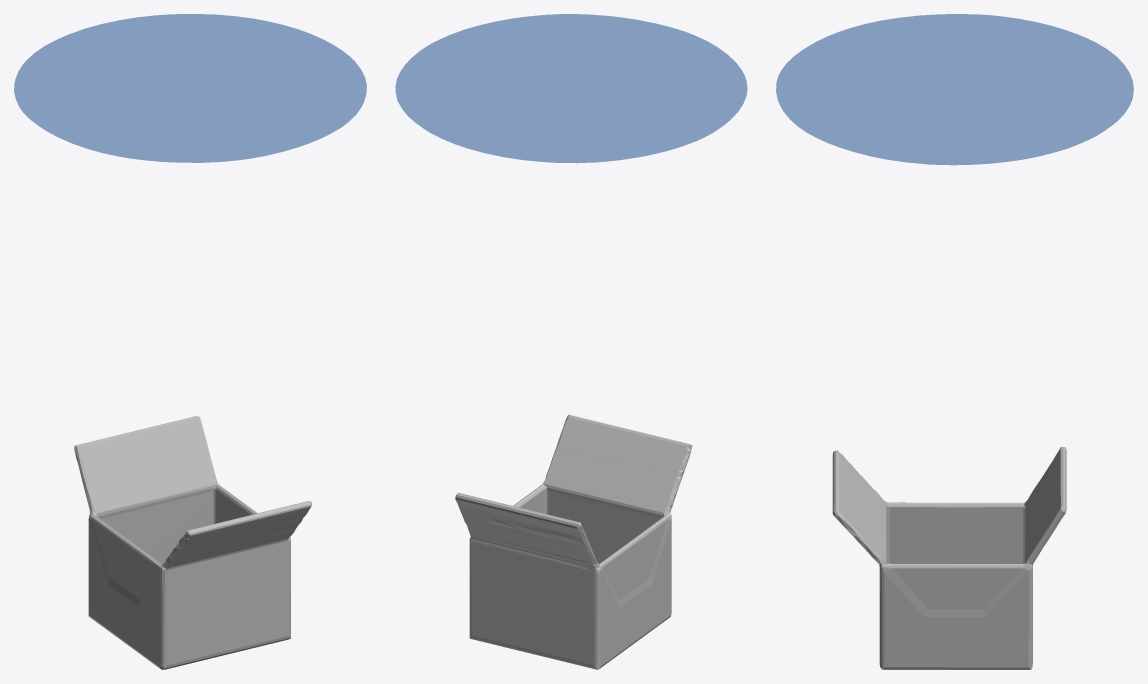
The model's file is init.glb.
The picture shows the model from 3 angles, left to right: view 1: azimuth 30°, elevation 25°; view 2: azimuth 150°, elevation 25°; view 3: azimuth 270°, elevation 25°; orthographic projection.
Visible parts, largest first — view 1: world, object.obj; view 2: world, object.obj; view 3: world, object.obj.
Boxes of the visible parts, x1=… form: world: x1=14, y1=14, x2=366, y2=162; object.obj: x1=74, y1=416, x2=311, y2=669; world: x1=395, y1=14, x2=747, y2=163; object.obj: x1=455, y1=414, x2=692, y2=669; world: x1=776, y1=14, x2=1133, y2=165; object.obj: x1=832, y1=447, x2=1066, y2=669.
Bounding box in the file's own units: 0.5904 × 1 × 0.5904.
